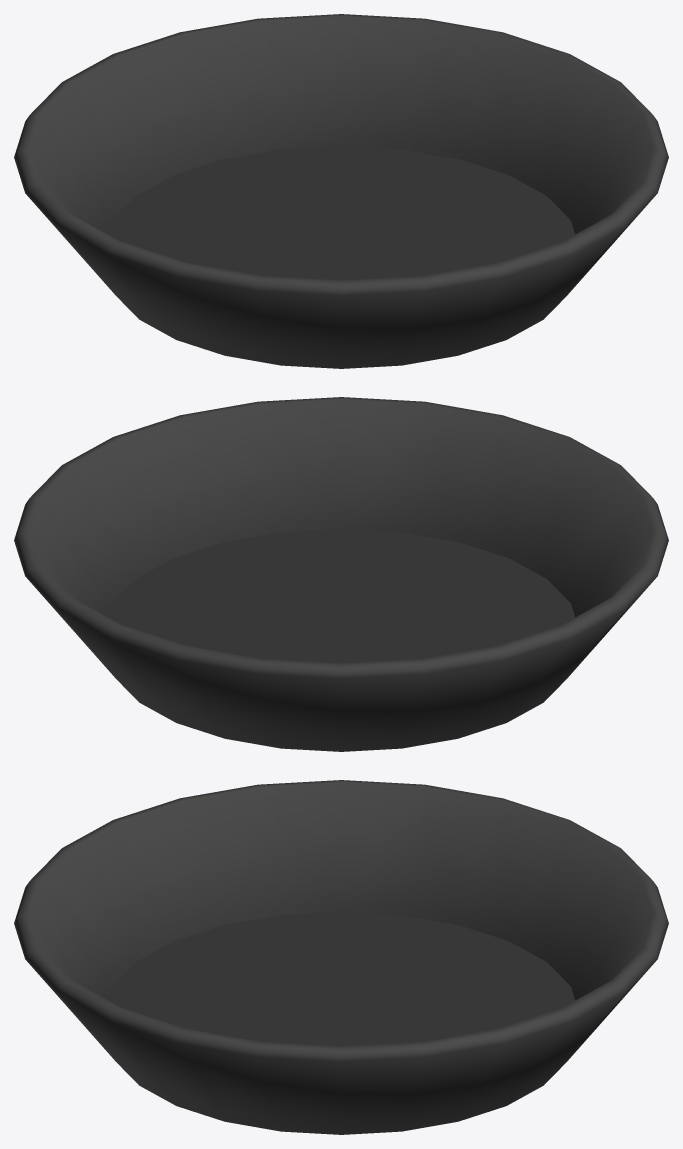
File: black_bowl.glb
3 views of the same model, one above another, from view 1: azimuth 30°, elevation 25°; view 2: azimuth 150°, elevation 25°; view 3: azimuth 270°, elevation 25° (orthographic).
Visible parts, largest first — view 1: SM_Dish_Bv1; view 2: SM_Dish_Bv1; view 3: SM_Dish_Bv1.
Boxes of the visible parts, x1,y1,x2,y2 form: SM_Dish_Bv1: [14, 14, 668, 368]; SM_Dish_Bv1: [14, 397, 668, 751]; SM_Dish_Bv1: [14, 780, 668, 1134].
Size of the model in its own units: 0.6574 by 0.1349 by 0.6574.
1 material, 1 textured.
